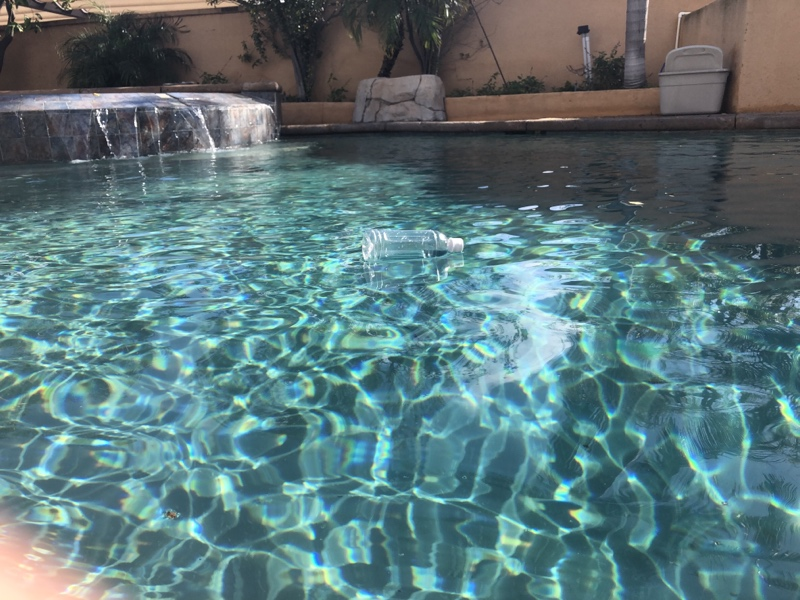Plastic Bottle: (358, 224, 465, 266)
